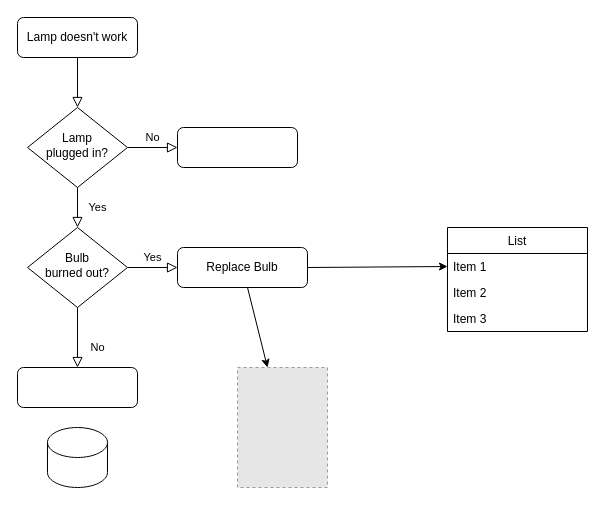
The diagram is 605 pixels wide and 505 high, and some of its shapes have lost their labels. Grey dashed boxes stand in for pictures. Each missing label, with the centre of its shape:
"Plug in lamp" belongs at point (237, 147).
"Repair Lamp" belongs at point (77, 387).
